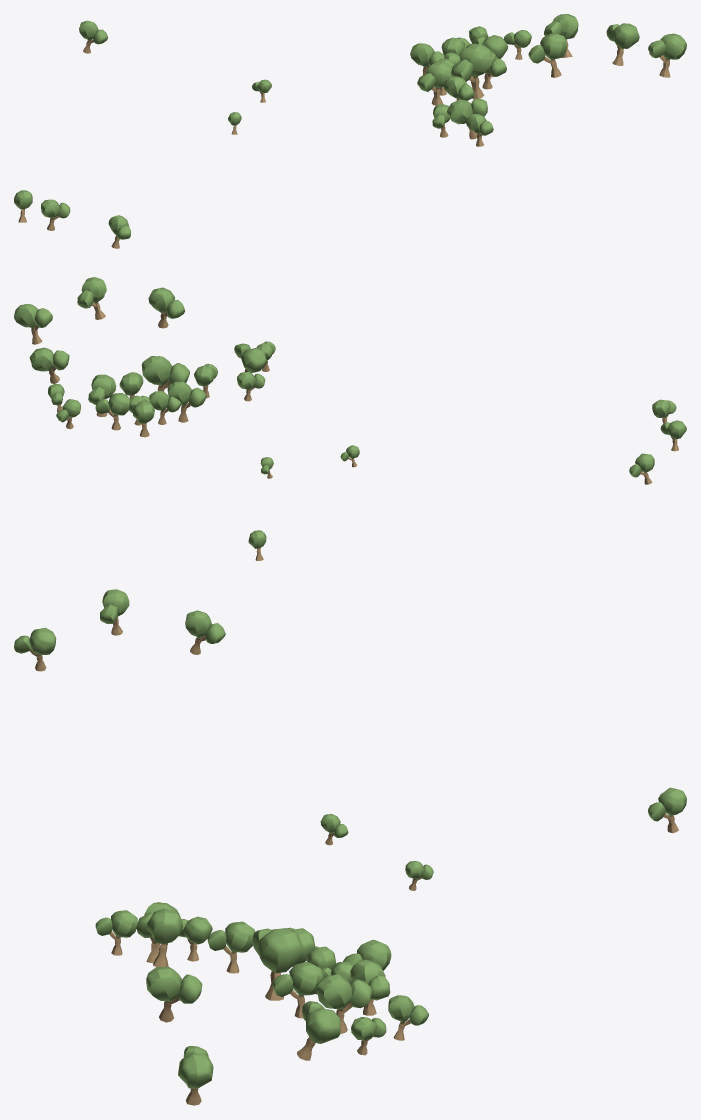
The model's file is treeCollider_v01.fbx.
3 views of the same model, one above another, from view 1: azimuth 30°, elevation 25°; view 2: azimuth 150°, elevation 25°; view 3: azimuth 270°, elevation 25° (orthographic). The views are drawn at different scales.
Parts seen in each view (by area): view 1: trees; view 2: trees; view 3: trees.
Part boxes in pixels (<box>): trees: <box>14,14,686,248</box>; trees: <box>14,277,686,560</box>; trees: <box>14,589,686,1105</box>.
Size of the model in its own units: 3115 by 385 by 1942.
